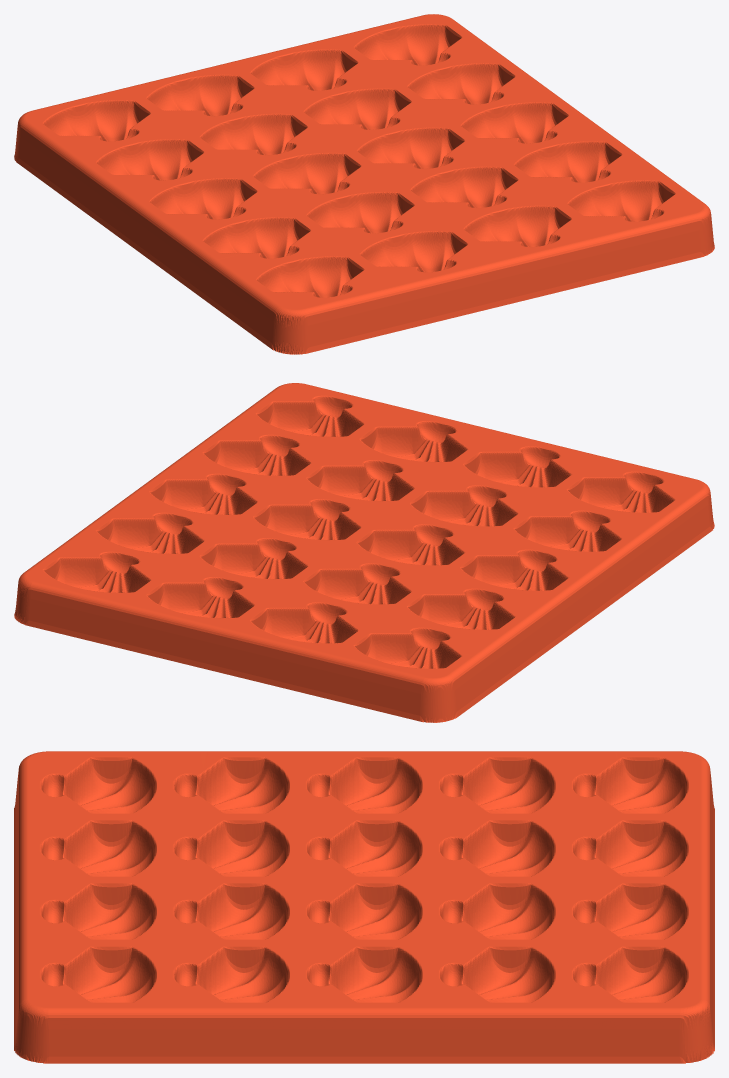
File: mold.glb
The picture shows the model from 3 angles, top to bottom: view 1: azimuth 30°, elevation 25°; view 2: azimuth 150°, elevation 25°; view 3: azimuth 270°, elevation 25°; orthographic projection. The views are drawn at different scales.
Visible parts, largest first — view 1: geometry_0; view 2: geometry_0; view 3: geometry_0.
Part boxes in pixels (x1=…): geometry_0: x1=14, y1=14, x2=714, y2=354; geometry_0: x1=14, y1=383, x2=714, y2=722; geometry_0: x1=14, y1=751, x2=714, y2=1063.
Bounding box in the file's own units: 0.1614 × 0.014 × 0.1787.
